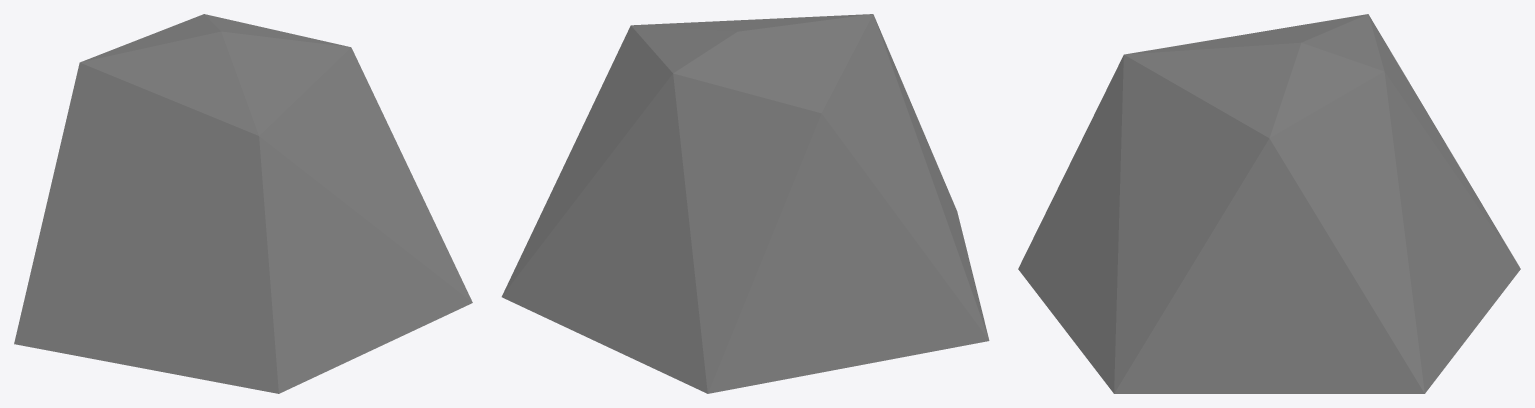
The model's file is object_52_lev1.glb.
3 renders of one model, left to right at view 1: azimuth 30°, elevation 25°; view 2: azimuth 150°, elevation 25°; view 3: azimuth 270°, elevation 25°, orthographic. The views are drawn at different scales.
Parts seen in each view (by area): view 1: object_52_lev1; view 2: object_52_lev1; view 3: object_52_lev1.
Part boxes in pixels (left/top/right/bottom): object_52_lev1: left=14, top=14, right=472, bottom=393; object_52_lev1: left=501, top=14, right=989, bottom=393; object_52_lev1: left=1018, top=14, right=1520, bottom=393.
Bounding box in the file's own units: 0.2551 × 0.1562 × 0.2682.
Materials: 1 (1 with a texture image).
